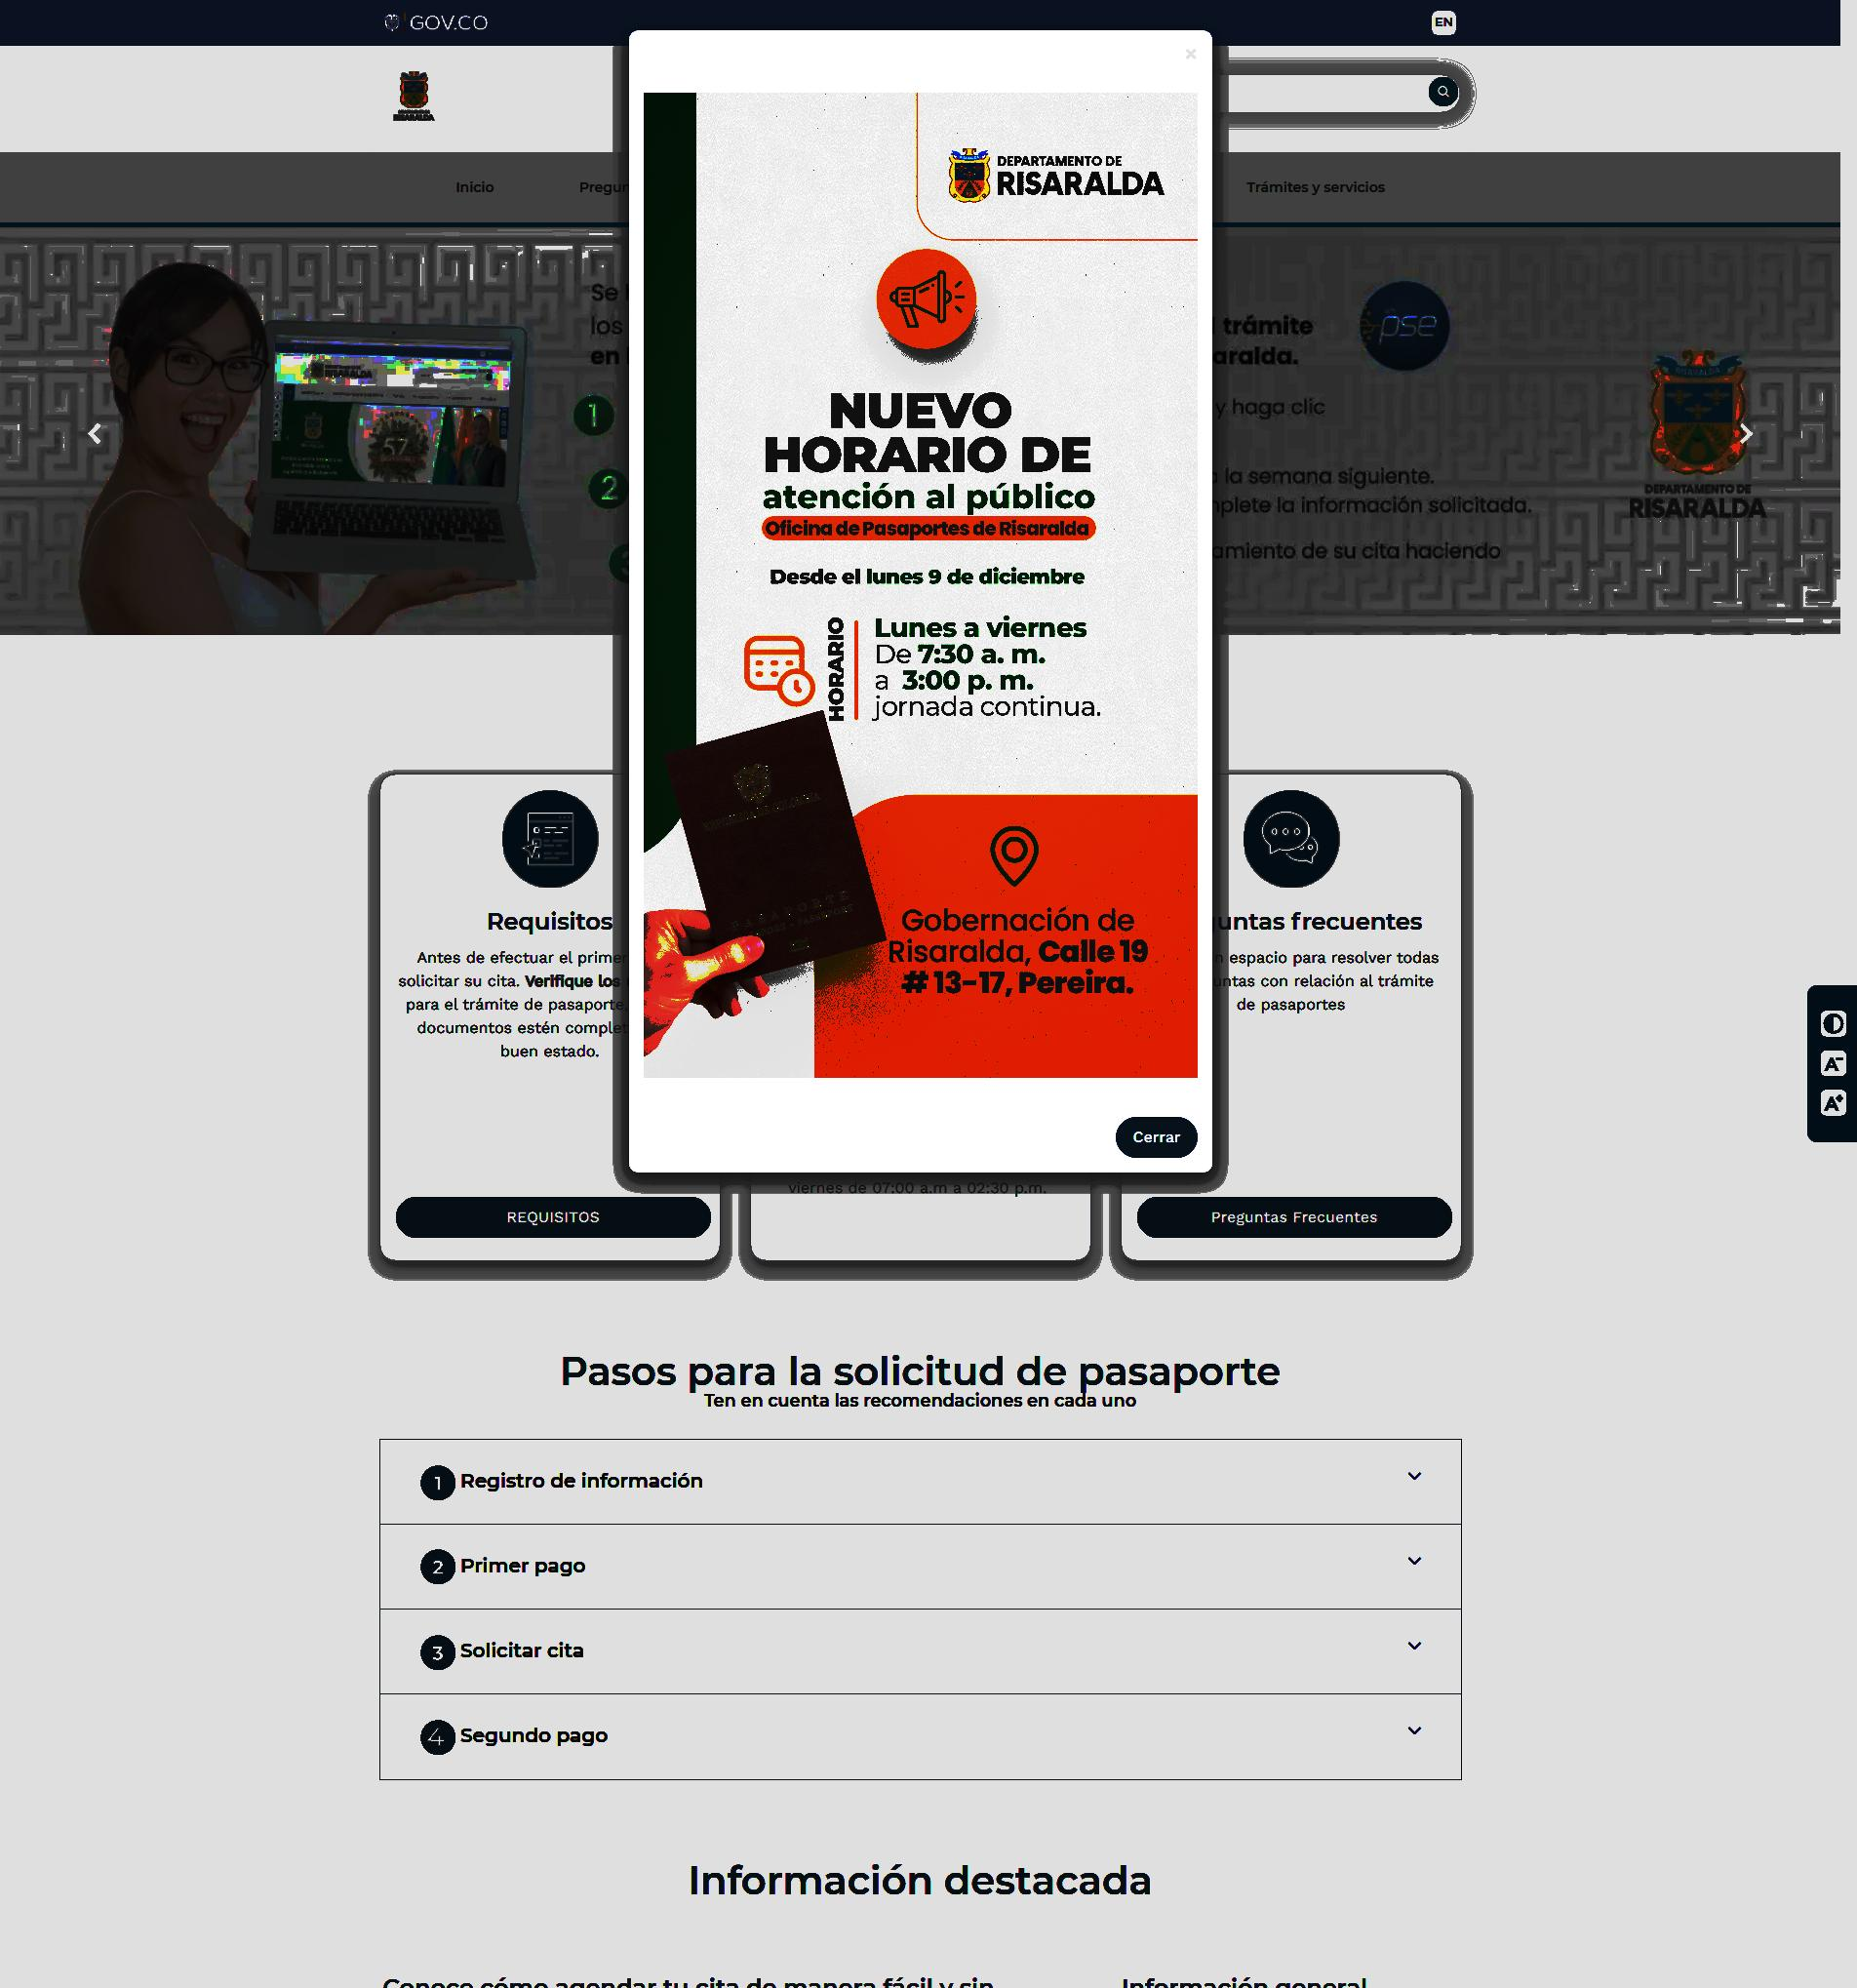barra accesibilidad: (1807, 983, 1855, 1145)
barra govco: (377, 4, 1465, 47)
btn buscador: (1216, 71, 1461, 117)
btn idiomas: (1431, 10, 1458, 36)
btn inicio: (452, 174, 503, 201)
logogovco: (381, 5, 489, 36)
